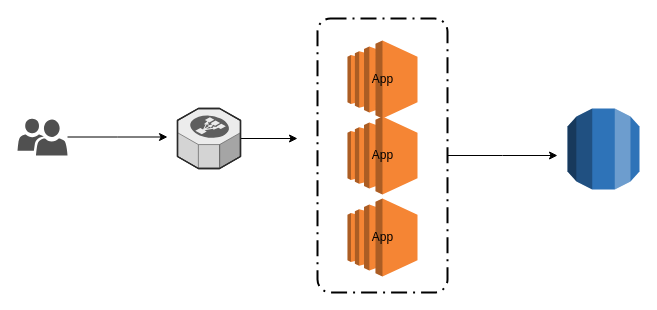
Some shapes in this 657 by 310 pixel diagram are drawn without their labels. Each missing label, with the centre of its shape:
"DB" goes at point 603,149.
"Load Blancer" goes at point 208,138.
